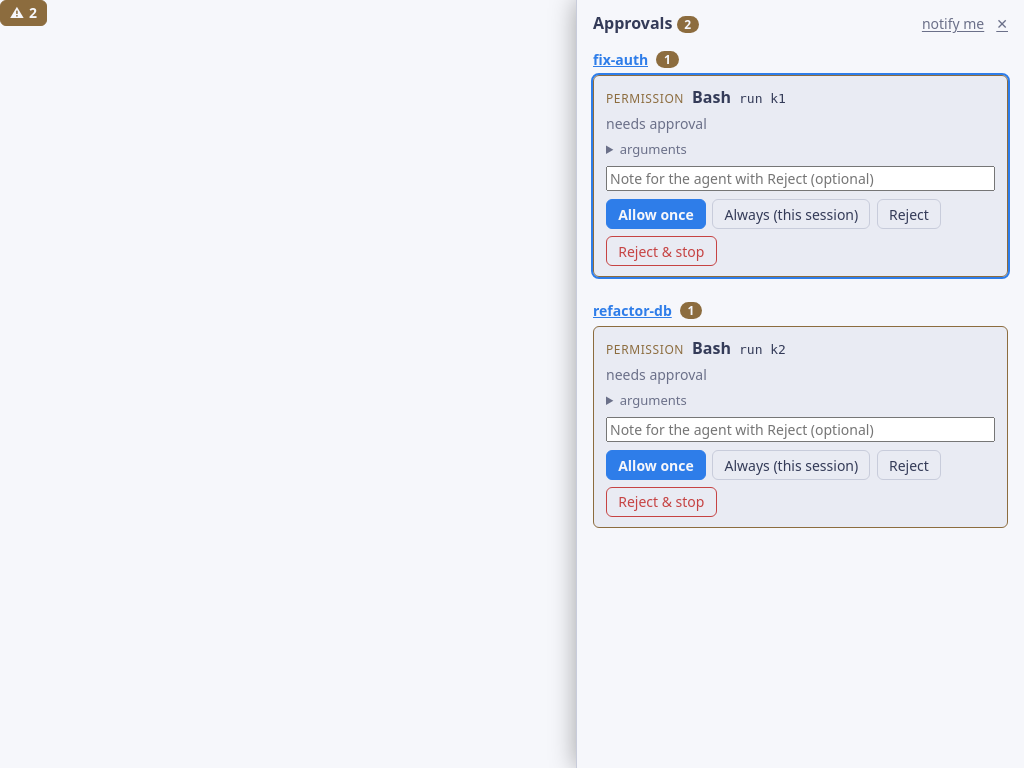
Test: approvals drawer › answers from the drawer; a question answered elsewhere leaves by itself
The width and height of the screenshot is (1024, 768).
Click the button with test id "ask-reject-stop" below "run k1" at (661, 251), box [606,236,717,266]
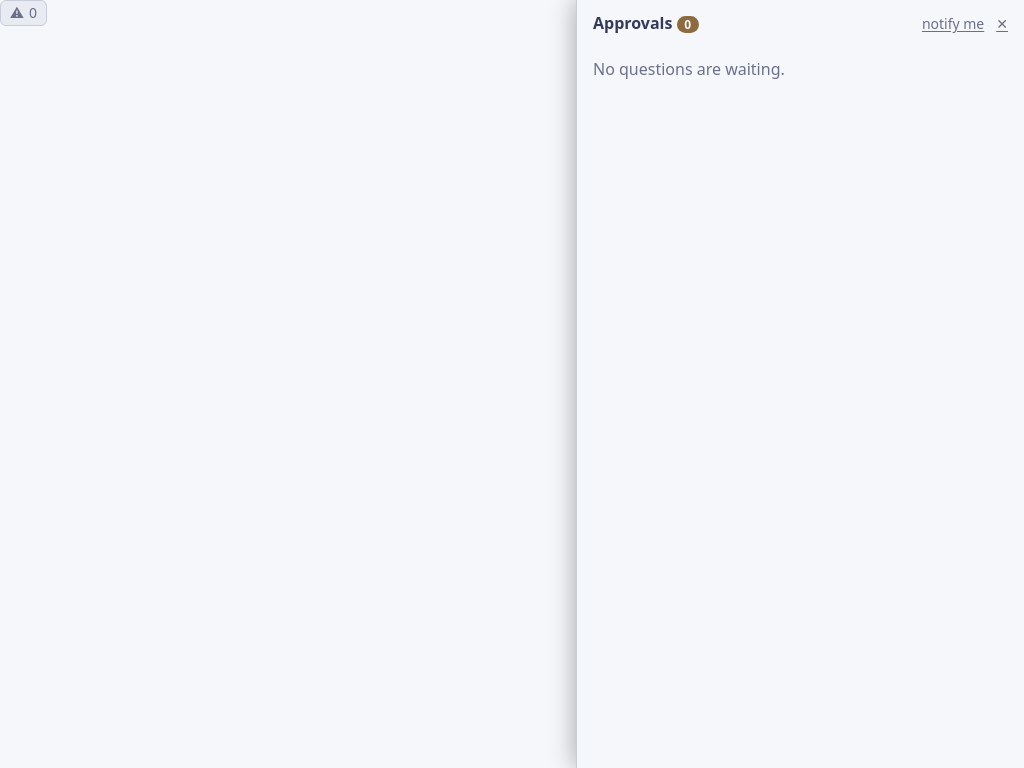
Now the text "No questions are waiting." is shown, box [593,58,785,80]
